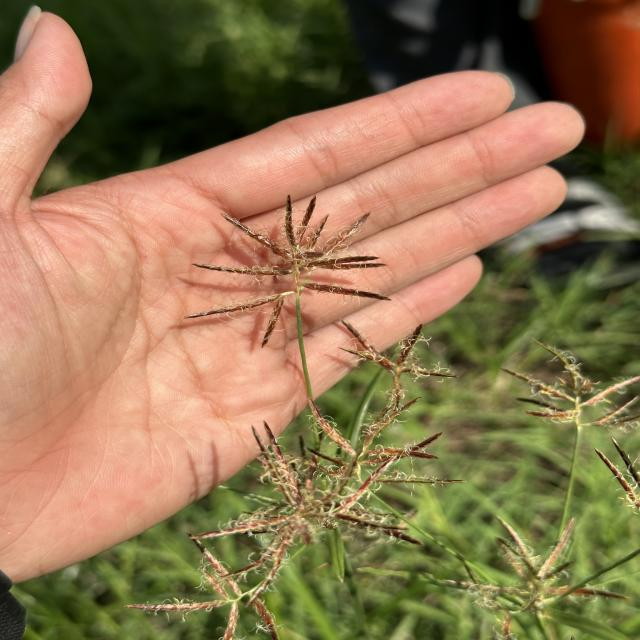cyperus: (133, 184, 459, 636), (130, 318, 455, 640), (412, 340, 640, 638), (184, 192, 388, 340)
